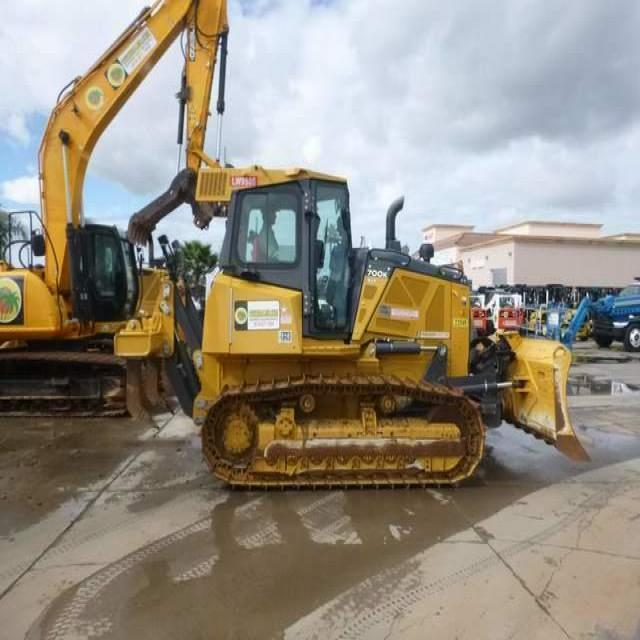Bulldozer: (192, 166, 614, 518)
